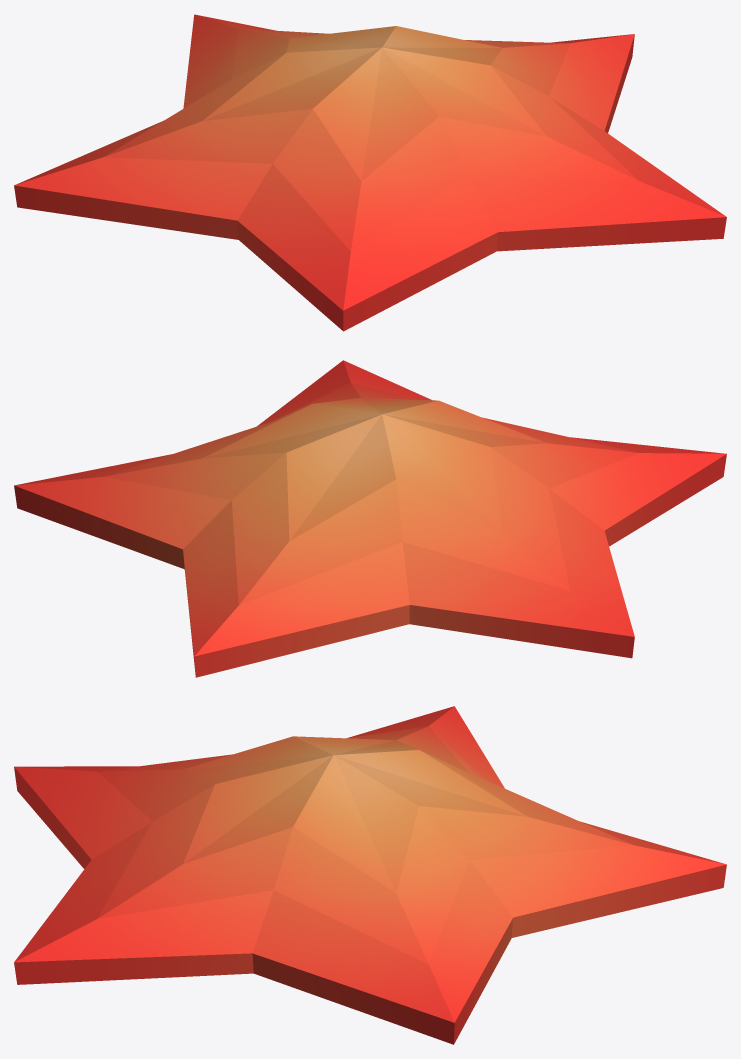
Rendered from Starfish_1.fbx.
3 renders of one model, top to bottom at view 1: azimuth 30°, elevation 25°; view 2: azimuth 150°, elevation 25°; view 3: azimuth 270°, elevation 25°, orthographic. The views are drawn at different scales.
Parts seen in each view (by area): view 1: Starfish_1; view 2: Starfish_1; view 3: Starfish_1.
Boxes of the visible parts, x1,y1,x2,y2 form: Starfish_1: [14, 14, 726, 331]; Starfish_1: [14, 360, 726, 677]; Starfish_1: [14, 706, 726, 1044].
Size of the model in its own units: 260 by 50.73 by 247.
